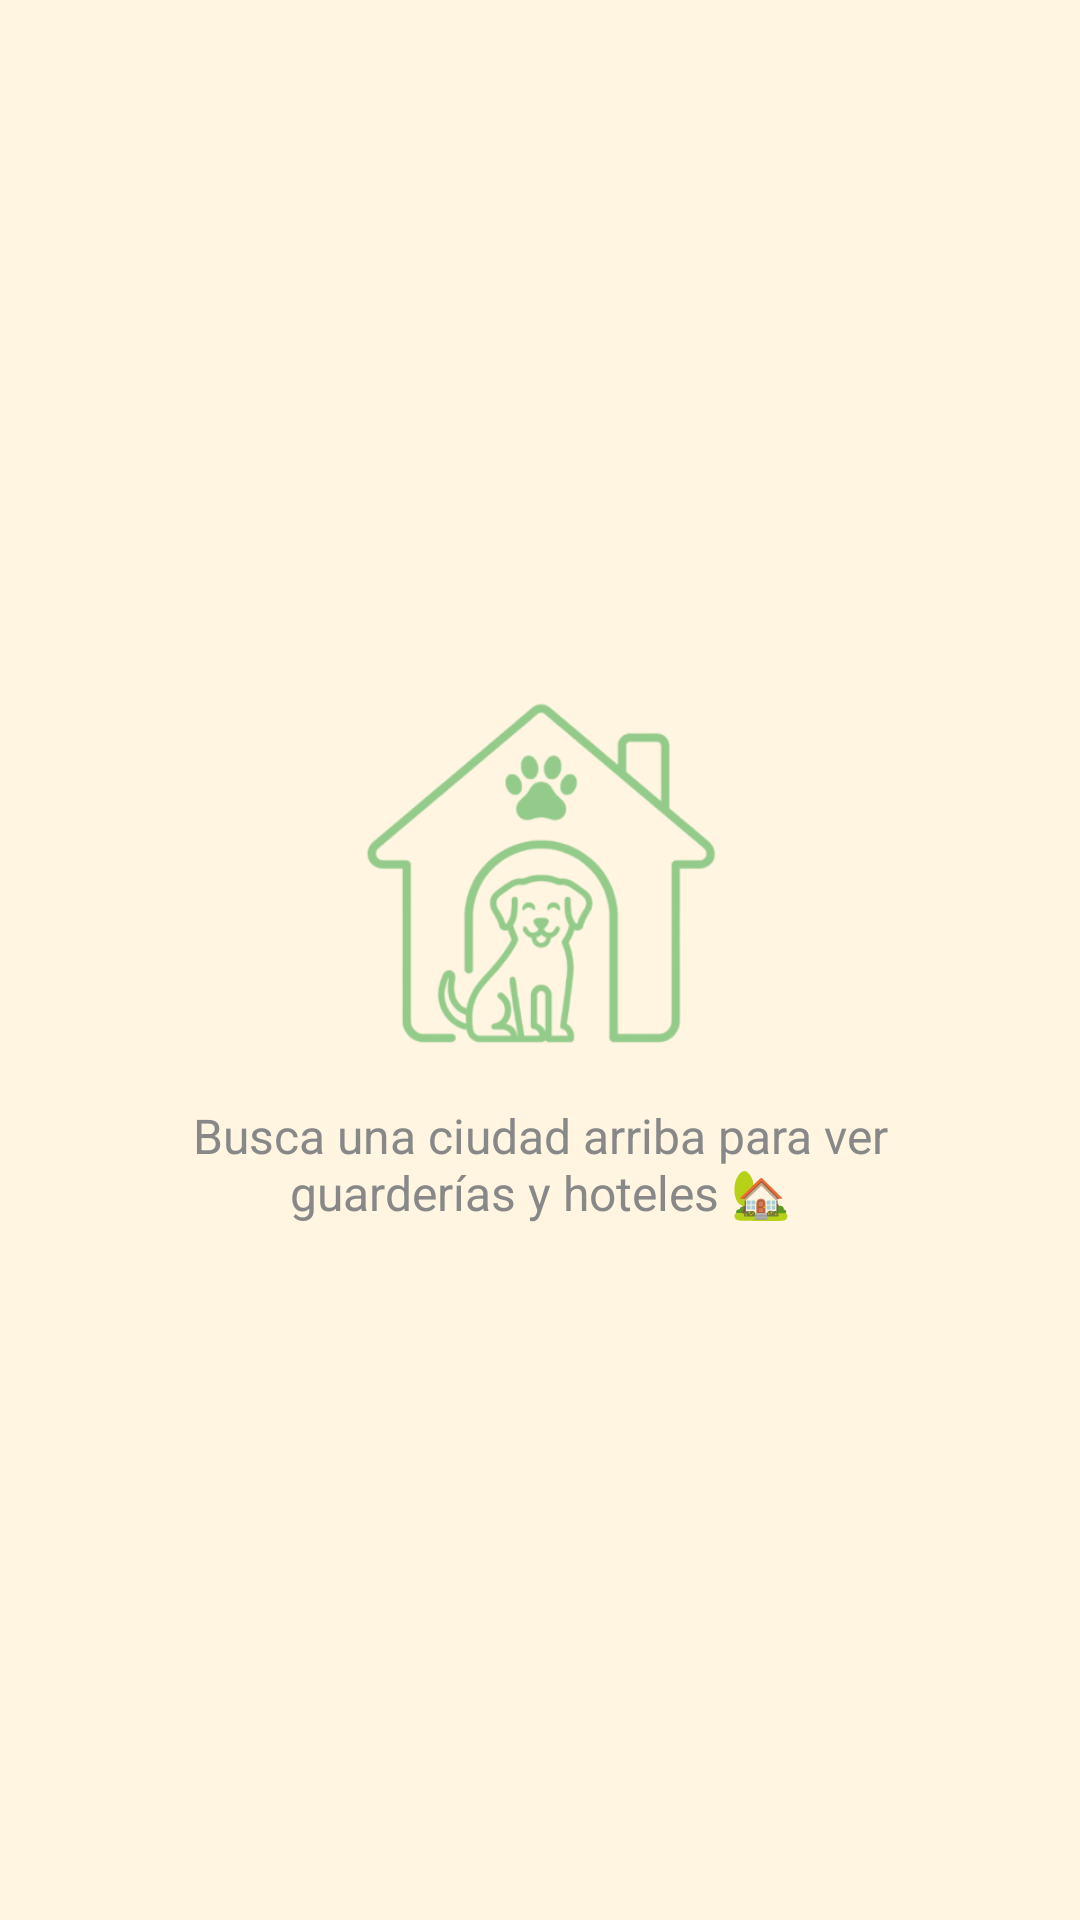

Icon click points for this 1080px x 1920px phone screenshot, format [x,y]:
guarderia: [541,873]
